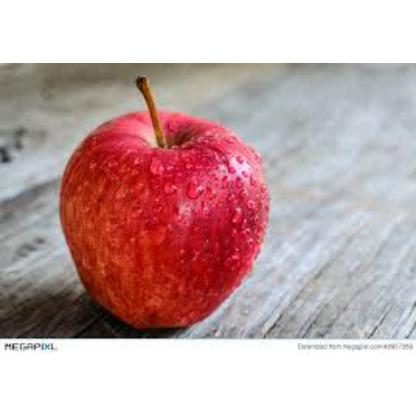apple: (67, 108, 257, 320)
